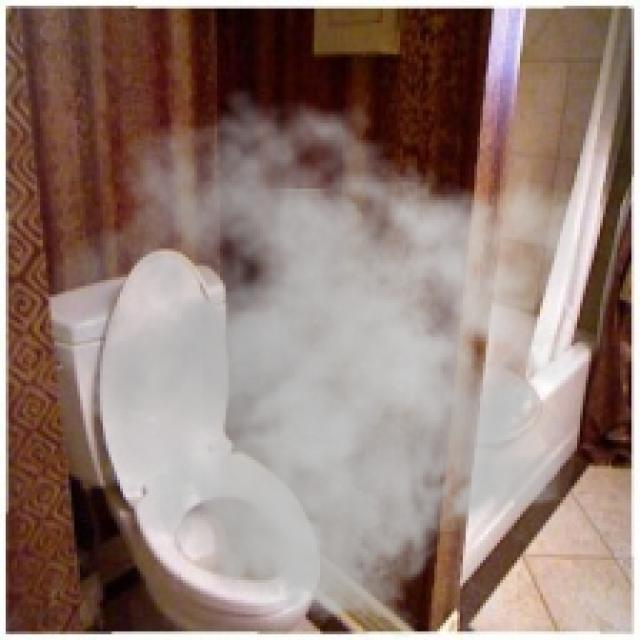Smoke: (45, 85, 578, 638)
